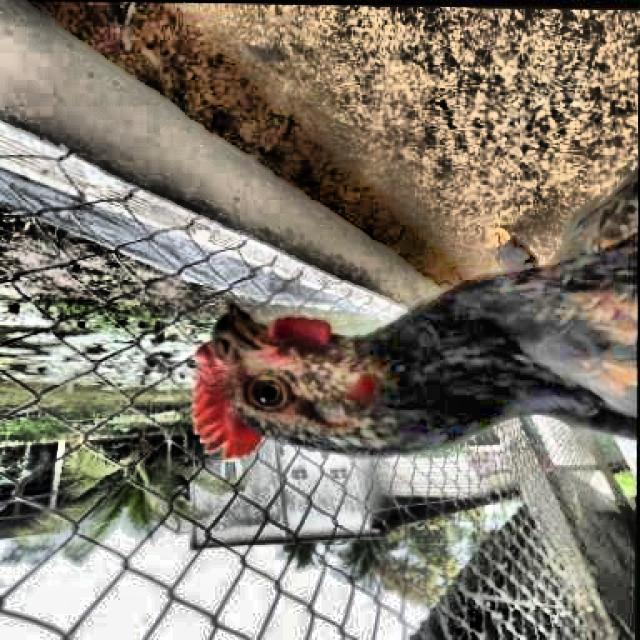Healthy: (234, 373, 304, 415)
